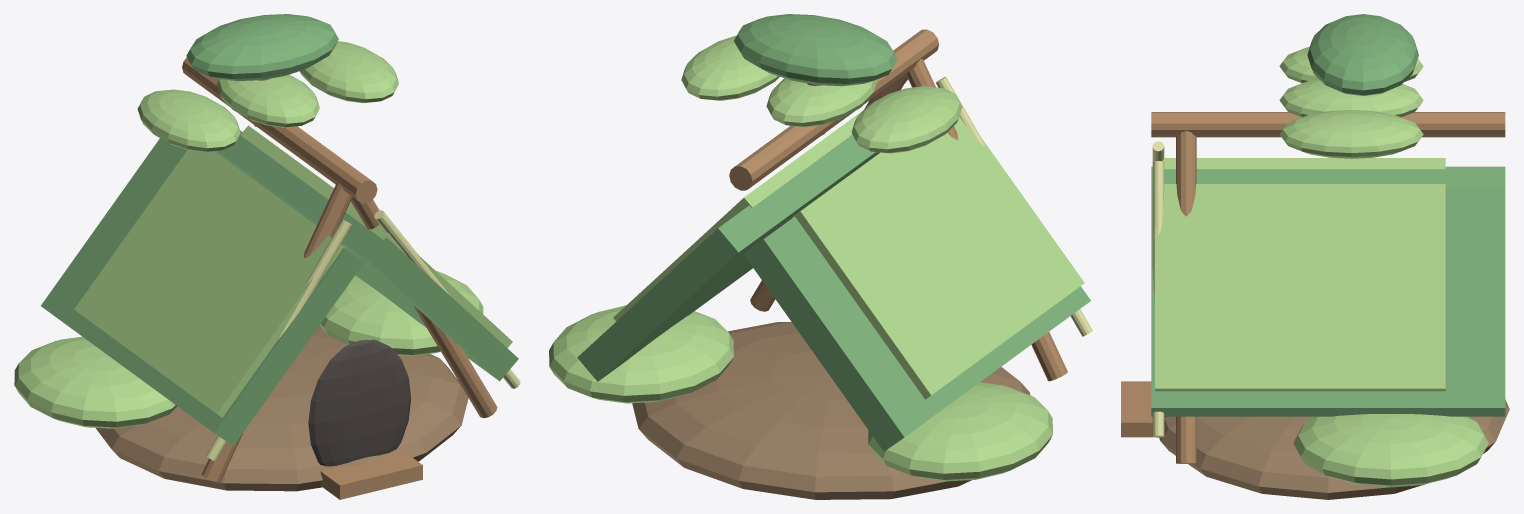
Rendered from AntLeafTent3.fbx.
The picture shows the model from 3 angles, left to right: view 1: azimuth 30°, elevation 25°; view 2: azimuth 150°, elevation 25°; view 3: azimuth 270°, elevation 25°; orthographic projection. The views are drawn at different scales.
Parts seen in each view (by area): view 1: Fresh overlapping roof leaf.004, Soil foundation.002, Sloping layered leaf roof.004, Sloping layered leaf roof.005, Triangular doorway.002, Side sleeping leaf.002, Lookout leaf, Side sleeping leaf.003, Tier leaf pennant.003, Tier leaf pennant.005, Tier leaf pennant.004, Roof ridge.002 (+6 smaller); view 2: Fresh overlapping roof leaf.004, Soil foundation.002, Sloping layered leaf roof.004, Sloping layered leaf roof.005, Side sleeping leaf.002, Side sleeping leaf.003, Lookout leaf, Tier leaf pennant.003, Roof ridge.002, Tier leaf pennant.005, Tier leaf pennant.004, Fresh overlapping roof leaf.005 (+3 smaller); view 3: Fresh overlapping roof leaf.005, Sloping layered leaf roof.005, Side sleeping leaf.003, Soil foundation.002, Lookout leaf, Roof ridge.002, Tier leaf pennant.005, Sloping layered leaf roof.004, Tier leaf pennant.004, Fresh overlapping roof leaf.004, Tent branch.005, Entrance stone.002 (+2 smaller).
Part boxes in pixels (x1,y1,x2,y2): Fresh overlapping roof leaf.004: [74, 150, 346, 417]; Soil foundation.002: [96, 325, 468, 491]; Sloping layered leaf roof.004: [41, 138, 364, 446]; Sloping layered leaf roof.005: [214, 130, 518, 381]; Triangular doorway.002: [308, 339, 411, 466]; Side sleeping leaf.002: [14, 336, 177, 428]; Lookout leaf: [186, 14, 338, 81]; Side sleeping leaf.003: [319, 271, 483, 356]; Tier leaf pennant.003: [137, 89, 240, 151]; Tier leaf pennant.005: [299, 41, 398, 102]; Tier leaf pennant.004: [216, 74, 319, 127]; Roof ridge.002: [182, 57, 377, 203]; Fresh overlapping roof leaf.004: [792, 117, 1084, 399]; Soil foundation.002: [632, 322, 1030, 499]; Sloping layered leaf roof.004: [743, 216, 1090, 451]; Sloping layered leaf roof.005: [577, 135, 879, 381]; Side sleeping leaf.002: [868, 382, 1052, 481]; Side sleeping leaf.003: [549, 305, 733, 403]; Lookout leaf: [734, 14, 897, 86]; Tier leaf pennant.003: [851, 86, 962, 153]; Roof ridge.002: [729, 29, 939, 190]; Tier leaf pennant.005: [681, 35, 779, 100]; Tier leaf pennant.004: [766, 78, 877, 126]; Fresh overlapping roof leaf.005: [613, 110, 863, 321]; Fresh overlapping roof leaf.005: [1155, 184, 1445, 391]; Sloping layered leaf roof.005: [1151, 187, 1505, 416]; Side sleeping leaf.003: [1293, 414, 1488, 487]; Soil foundation.002: [1159, 399, 1509, 499]; Lookout leaf: [1307, 14, 1418, 95]; Roof ridge.002: [1151, 112, 1505, 137]; Tier leaf pennant.005: [1279, 110, 1423, 158]; Sloping layered leaf roof.004: [1151, 166, 1505, 187]; Tier leaf pennant.004: [1279, 79, 1423, 117]; Fresh overlapping roof leaf.004: [1162, 158, 1445, 169]; Tent branch.005: [1176, 131, 1196, 463]; Entrance stone.002: [1121, 381, 1153, 437].
Size of the model in its own units: 224 by 195 by 167.
